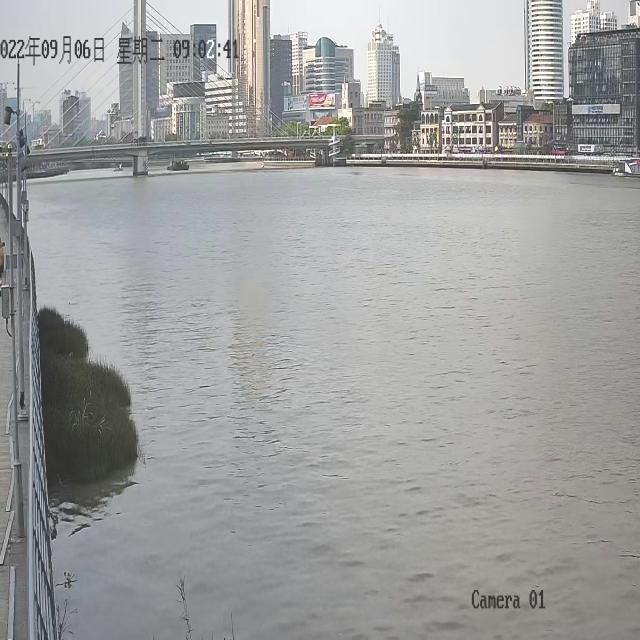ship: (166, 159, 188, 169), (113, 162, 123, 170)
